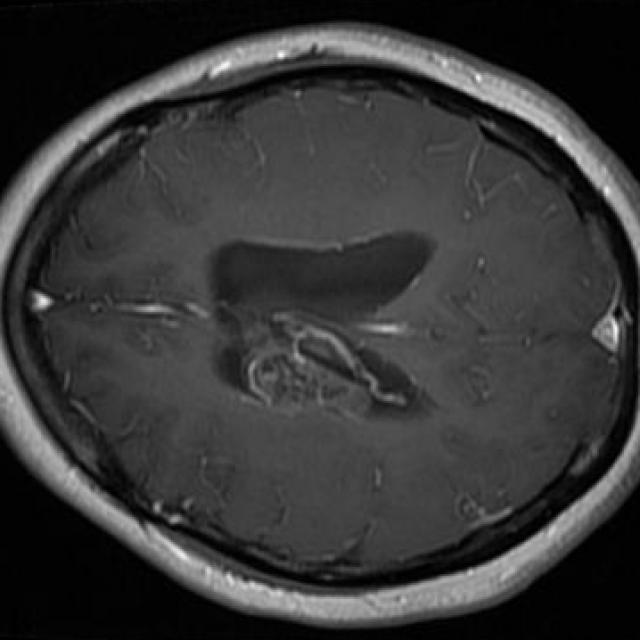glioma: (241, 316, 408, 415)
